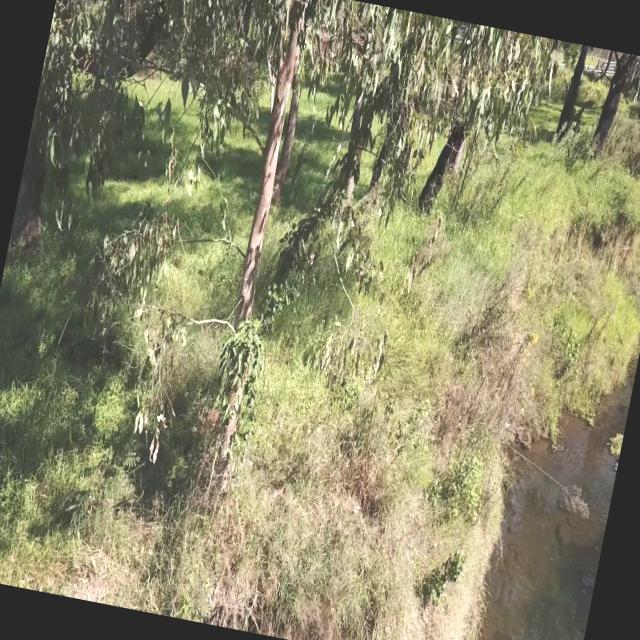Mysore-Thorn-Weed: (58, 407, 156, 559)
